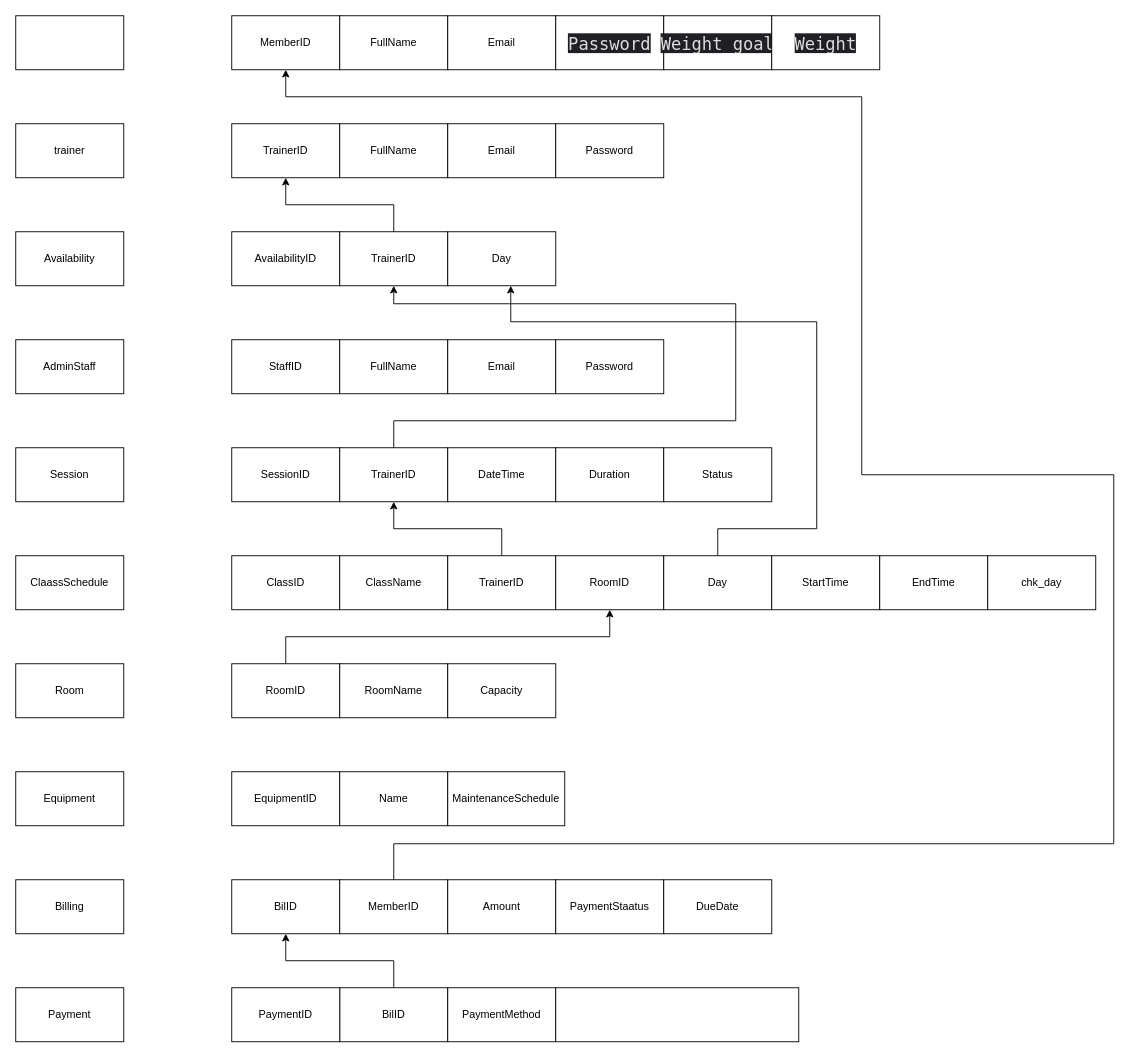
The diagram is 1137 pixels wide and 1058 high, and some of its shapes have lost their labels. The shapes that lost their labels are listed below. From the top down, each one's centre as x and y in pixels, then its label:
At point 69,42: "Member".
At point 677,1014: "PaymentDate".
